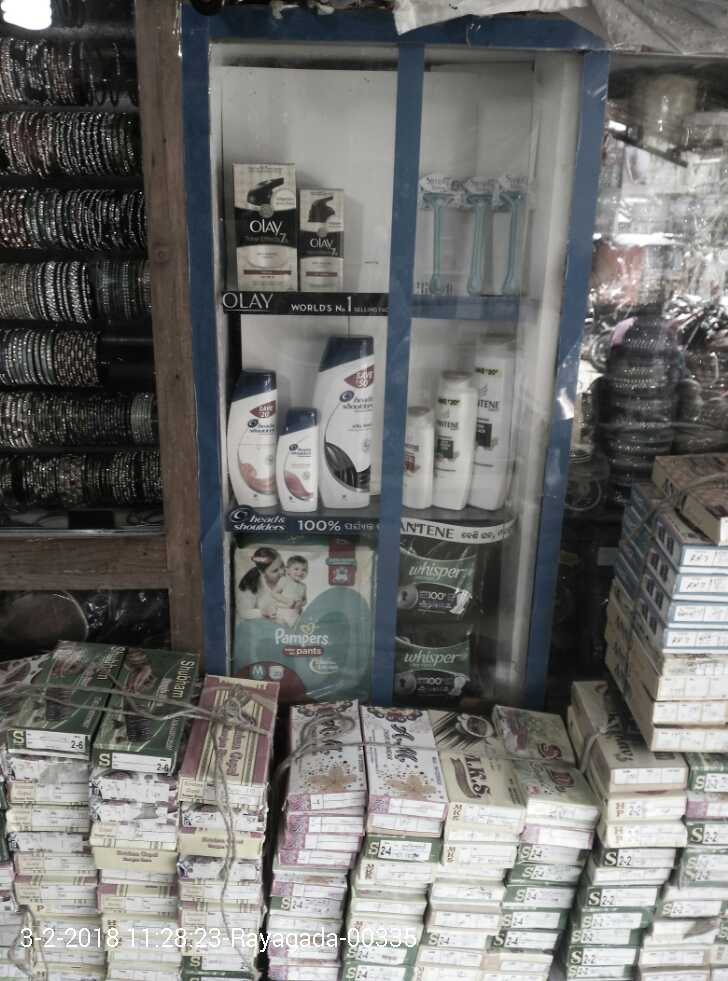venus: (458, 176, 497, 296), (497, 177, 535, 296), (429, 176, 458, 293)
